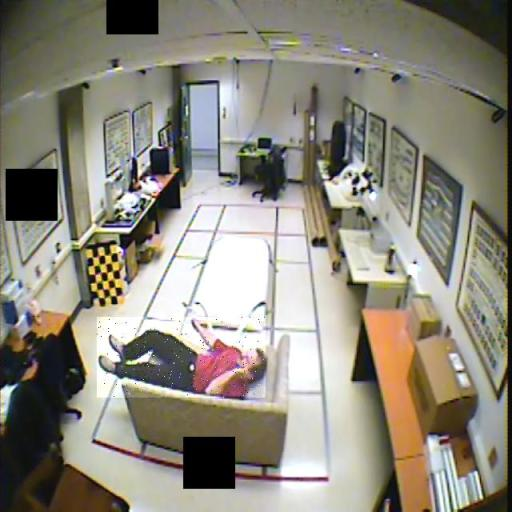Fall: (97, 317, 266, 398)
